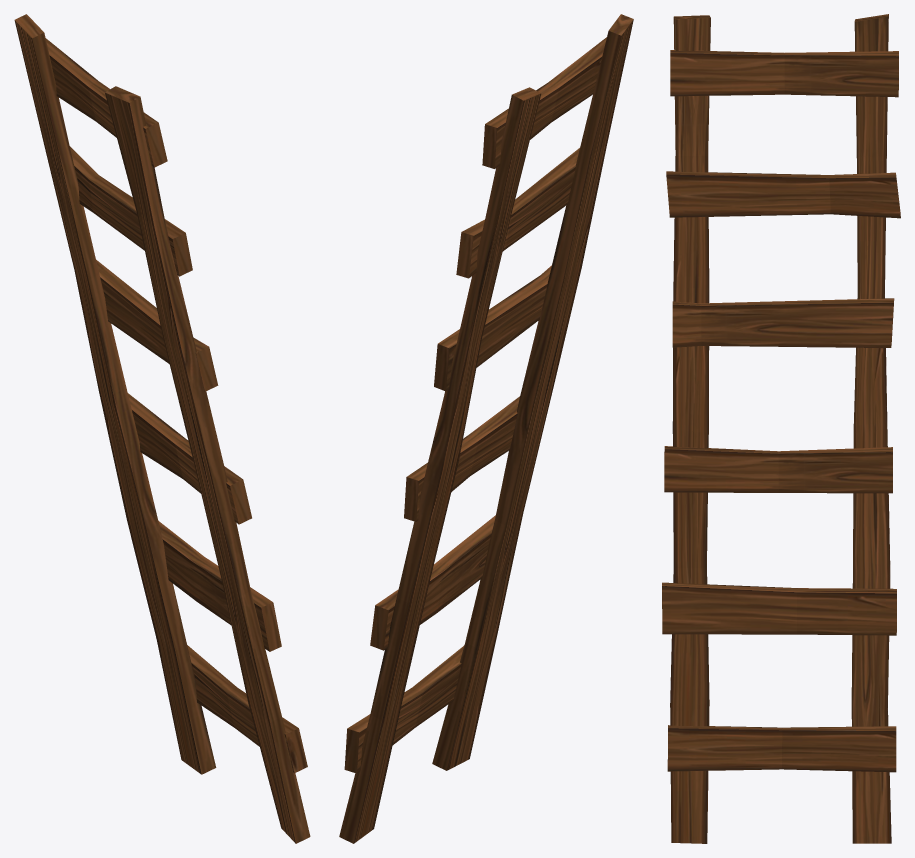
Rendered from Stair.fbx.
3 renders of one model, left to right at view 1: azimuth 30°, elevation 25°; view 2: azimuth 150°, elevation 25°; view 3: azimuth 270°, elevation 25°, orthographic. The views are drawn at different scales.
Parts seen in each view (by area): view 1: Stair.001; view 2: Stair.001; view 3: Stair.001.
Part boxes in pixels (left/top/right/bottom): Stair.001: left=14, top=14, right=310, bottom=843; Stair.001: left=339, top=14, right=633, bottom=843; Stair.001: left=662, top=14, right=900, bottom=843.
Bounding box in the file's own units: 0.7169 × 2.83 × 0.8167.
Materials: 1 (1 with a texture image).
